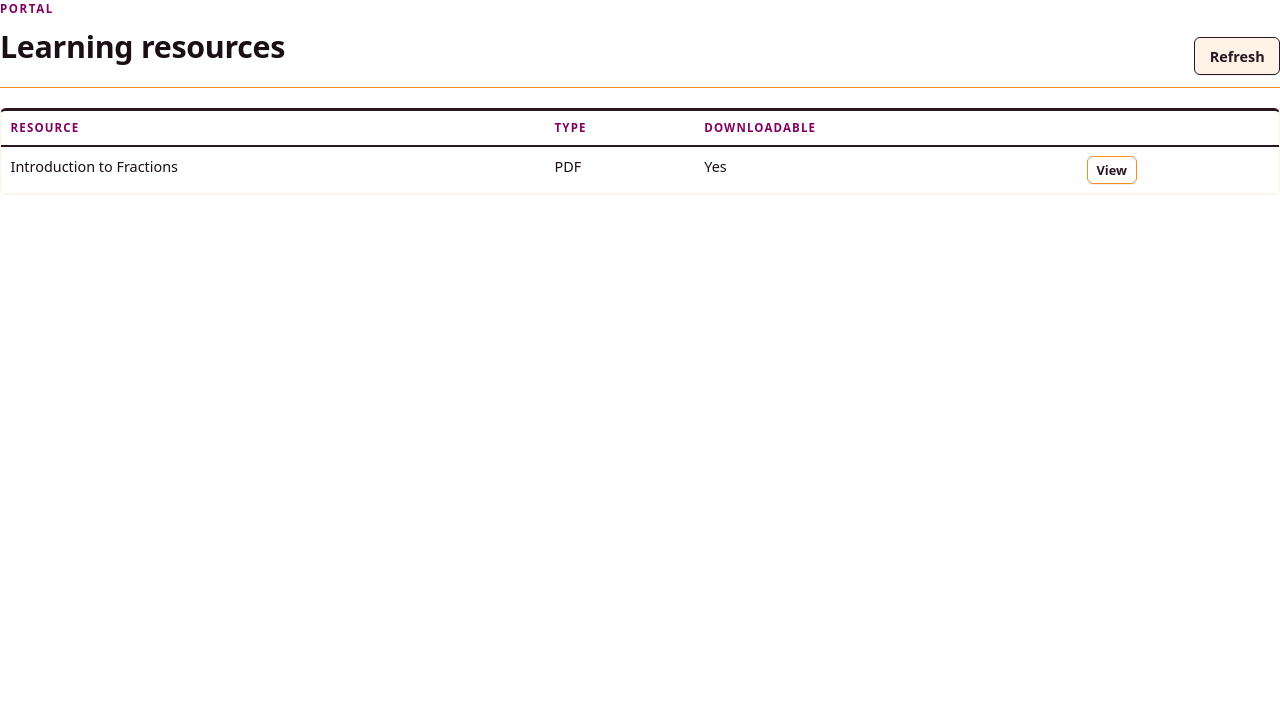
Test: PortalList › shows read-only rows with a detail view and no edit controls
This screenshot has width=1280, height=720.
expect the text "Introduction to Fractions" is shown: met, box left=1, top=146, right=545, bottom=193
Click the button with aria-label "View Introduction to Fractions": coordinates (1112, 170) left=1087, top=156, right=1137, bottom=184
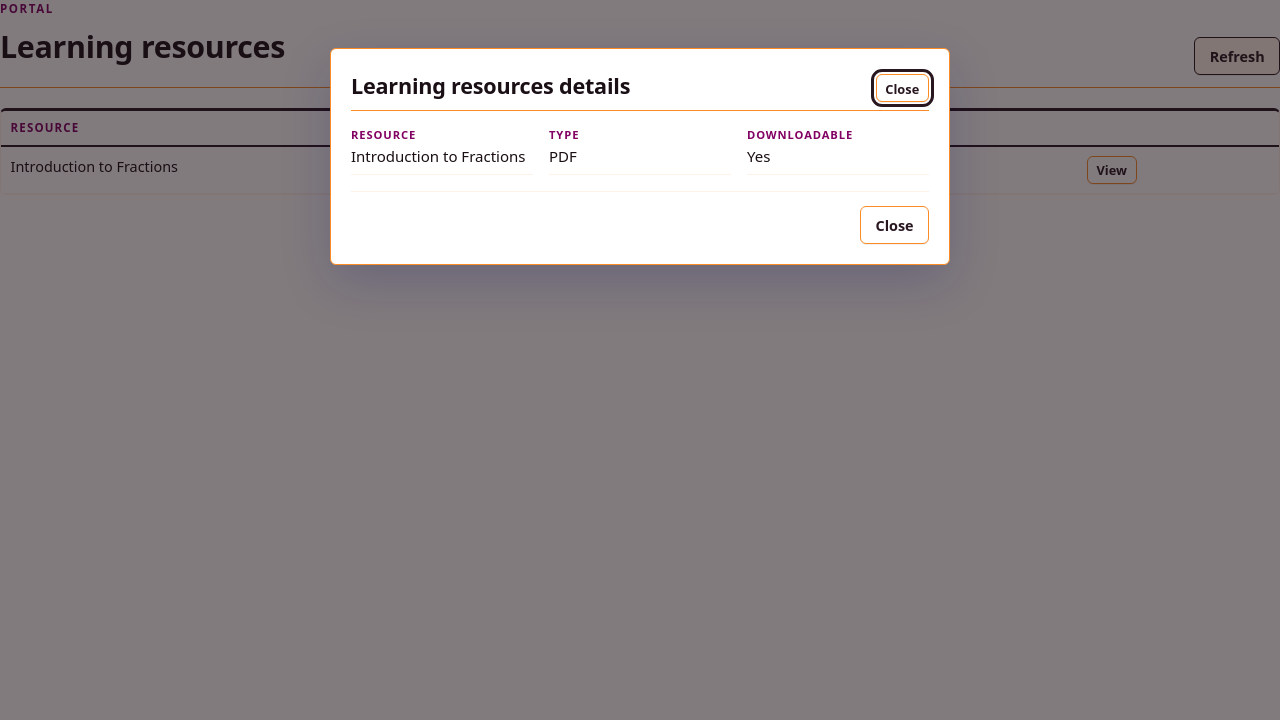
expect the dialog "Learning resources details" is shown: met, box left=330, top=48, right=950, bottom=265
